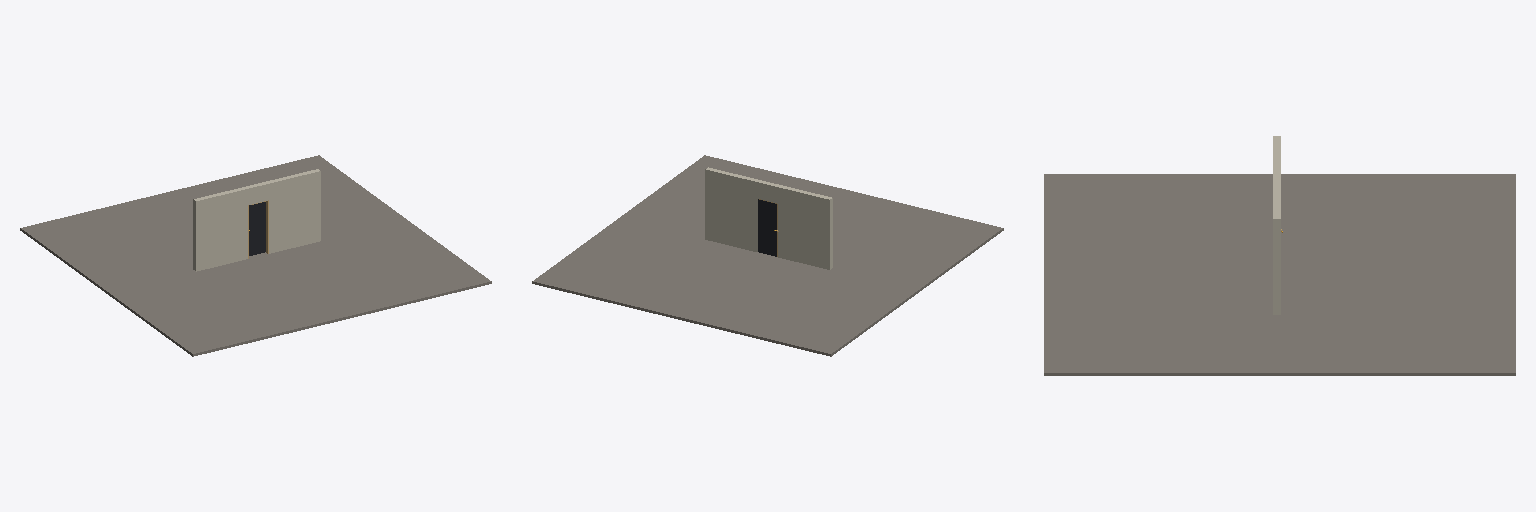
URDF robot description (db0632_swing_single_minimal):
<?xml version="1.0" ?>
<robot xmlns:doorbench="https://github.com/adamraudonis/DoorBench/schema/urdf-ext" name="db0632_swing_single_minimal">
  <link name="world_env">
    <visual name="floor_vis">
      <origin xyz="0 0 -0.05" rpy="0 0 0"/>
      <geometry>
        <box size="12 12 0.1"/>
      </geometry>
      <material name="mat_floor"/>
    </visual>
    <collision name="floor_col">
      <origin xyz="0 0 -0.05" rpy="0 0 0"/>
      <geometry>
        <box size="12 12 0.1"/>
      </geometry>
    </collision>
    <visual name="wall_left_vis">
      <origin xyz="-1.46675 -0.0755 1.35" rpy="0 0 0"/>
      <geometry>
        <box size="2.0665 0.2 2.7"/>
      </geometry>
      <material name="mat_wall"/>
    </visual>
    <collision name="wall_left_col">
      <origin xyz="-1.46675 -0.0755 1.35" rpy="0 0 0"/>
      <geometry>
        <box size="2.0665 0.2 2.7"/>
      </geometry>
    </collision>
    <visual name="wall_right_vis">
      <origin xyz="1.45175 -0.0755 1.35" rpy="0 0 0"/>
      <geometry>
        <box size="2.0965 0.2 2.7"/>
      </geometry>
      <material name="mat_wall"/>
    </visual>
    <collision name="wall_right_col">
      <origin xyz="1.45175 -0.0755 1.35" rpy="0 0 0"/>
      <geometry>
        <box size="2.0965 0.2 2.7"/>
      </geometry>
    </collision>
    <visual name="wall_header_vis">
      <origin xyz="-0.015 -0.0755 2.397" rpy="0 0 0"/>
      <geometry>
        <box size="0.837 0.2 0.606"/>
      </geometry>
      <material name="mat_wall"/>
    </visual>
    <collision name="wall_header_col">
      <origin xyz="-0.015 -0.0755 2.397" rpy="0 0 0"/>
      <geometry>
        <box size="0.837 0.2 0.606"/>
      </geometry>
    </collision>
    <visual name="jamb_hinge_vis">
      <origin xyz="0.394 -0.0755 1.0225" rpy="0 0 0"/>
      <geometry>
        <box size="0.019 0.2 2.045"/>
      </geometry>
      <material name="mat_frame"/>
    </visual>
    <collision name="jamb_hinge_col">
      <origin xyz="0.394 -0.0755 1.0225" rpy="0 0 0"/>
      <geometry>
        <box size="0.019 0.2 2.045"/>
      </geometry>
    </collision>
    <visual name="strike_1016_wall_n_vis">
      <origin xyz="-0.409 -0.091675 1.016" rpy="0 0 0"/>
      <geometry>
        <box size="0.049 0.16765 0.0334"/>
      </geometry>
      <material name="mat_frame"/>
    </visual>
    <collision name="strike_1016_wall_n_col">
      <origin xyz="-0.409 -0.091675 1.016" rpy="0 0 0"/>
      <geometry>
        <box size="0.049 0.16765 0.0334"/>
      </geometry>
    </collision>
    <visual name="strike_1016_wall_p_vis">
      <origin xyz="-0.409 0.01585 1.016" rpy="0 0 0"/>
      <geometry>
        <box size="0.049 0.016 0.0334"/>
      </geometry>
      <material name="mat_frame"/>
    </visual>
    <collision name="strike_1016_wall_p_col">
      <origin xyz="-0.409 0.01585 1.016" rpy="0 0 0"/>
      <geometry>
        <box size="0.049 0.016 0.0334"/>
      </geometry>
    </collision>
    <visual name="strike_1016_ramp_vis">
      <origin xyz="-0.413636 0.028673 1.016" rpy="0 0 0.428384"/>
      <geometry>
        <box size="0.049 0.03298 0.0334"/>
      </geometry>
      <material name="mat_frame"/>
    </visual>
    <collision name="strike_1016_ramp_col">
      <origin xyz="-0.413636 0.028673 1.016" rpy="0 0 0.428384"/>
      <geometry>
        <box size="0.049 0.03298 0.0334"/>
      </geometry>
    </collision>
    <visual name="strike_1016_back_vis">
      <origin xyz="-0.41735 0 1.016" rpy="0 0 0"/>
      <geometry>
        <box size="0.0323 0.0157 0.0334"/>
      </geometry>
      <material name="mat_frame"/>
    </visual>
    <collision name="strike_1016_back_col">
      <origin xyz="-0.41735 0 1.016" rpy="0 0 0"/>
      <geometry>
        <box size="0.0323 0.0157 0.0334"/>
      </geometry>
    </collision>
    <visual name="jamb_strike_0_vis">
      <origin xyz="-0.409 -0.0755 0.49965" rpy="0 0 0"/>
      <geometry>
        <box size="0.049 0.2 0.9993"/>
      </geometry>
      <material name="mat_frame"/>
    </visual>
    <collision name="jamb_strike_0_col">
      <origin xyz="-0.409 -0.0755 0.49965" rpy="0 0 0"/>
      <geometry>
        <box size="0.049 0.2 0.9993"/>
      </geometry>
    </collision>
    <visual name="jamb_strike_1_vis">
      <origin xyz="-0.409 -0.0755 1.53885" rpy="0 0 0"/>
      <geometry>
        <box size="0.049 0.2 1.0123"/>
      </geometry>
      <material name="mat_frame"/>
    </visual>
    <collision name="jamb_strike_1_col">
      <origin xyz="-0.409 -0.0755 1.53885" rpy="0 0 0"/>
      <geometry>
        <box size="0.049 0.2 1.0123"/>
      </geometry>
    </collision>
    <visual name="jamb_head_vis">
      <origin xyz="-0.015 -0.0755 2.0545" rpy="0 0 0"/>
      <geometry>
        <box size="0.837 0.2 0.019"/>
      </geometry>
      <material name="mat_frame"/>
    </visual>
    <collision name="jamb_head_col">
      <origin xyz="-0.015 -0.0755 2.0545" rpy="0 0 0"/>
      <geometry>
        <box size="0.837 0.2 0.019"/>
      </geometry>
    </collision>
    <visual name="head_stud_vis">
      <origin xyz="-0.015 -0.0755 2.079" rpy="0 0 0"/>
      <geometry>
        <box size="0.837 0.2 0.03"/>
      </geometry>
      <material name="mat_wall"/>
    </visual>
    <collision name="head_stud_col">
      <origin xyz="-0.015 -0.0755 2.079" rpy="0 0 0"/>
      <geometry>
        <box size="0.837 0.2 0.03"/>
      </geometry>
    </collision>
    <visual name="stop_hinge_vis">
      <origin xyz="0.379 -0.034 1.0225" rpy="0 0 0"/>
      <geometry>
        <box size="0.011 0.032 2.045"/>
      </geometry>
      <material name="mat_frame"/>
    </visual>
    <collision name="stop_hinge_col">
      <origin xyz="0.379 -0.034 1.0225" rpy="0 0 0"/>
      <geometry>
        <box size="0.011 0.032 2.045"/>
      </geometry>
    </collision>
    <visual name="stop_strike_vis">
      <origin xyz="-0.379 -0.034 1.0225" rpy="0 0 0"/>
      <geometry>
        <box size="0.011 0.032 2.045"/>
      </geometry>
      <material name="mat_frame"/>
    </visual>
    <collision name="stop_strike_col">
      <origin xyz="-0.379 -0.034 1.0225" rpy="0 0 0"/>
      <geometry>
        <box size="0.011 0.032 2.045"/>
      </geometry>
    </collision>
    <visual name="stop_head_vis">
      <origin xyz="0 -0.034 2.0395" rpy="0 0 0"/>
      <geometry>
        <box size="0.769 0.032 0.011"/>
      </geometry>
      <material name="mat_frame"/>
    </visual>
    <collision name="stop_head_col">
      <origin xyz="0 -0.034 2.0395" rpy="0 0 0"/>
      <geometry>
        <box size="0.769 0.032 0.011"/>
      </geometry>
    </collision>
  </link>
  <link name="leaf">
    <inertial>
      <origin xyz="-0.381 -0.0245 1.025" rpy="0 0 0"/>
      <mass value="11.165926"/>
      <inertia ixx="3.8431713" ixy="0" ixz="0" iyy="4.382317117" iyz="0" izz="0.541425527"/>
    </inertial>
    <visual name="leaf_slab_vis">
      <origin xyz="-0.381 -0.0245 1.025" rpy="0 0 0"/>
      <geometry>
        <box size="0.762 0.035 2.032"/>
      </geometry>
      <material name="mat_leaf"/>
    </visual>
    <collision name="leaf_slab_col">
      <origin xyz="-0.381 -0.0245 1.025" rpy="0 0 0"/>
      <geometry>
        <box size="0.762 0.035 2.032"/>
      </geometry>
    </collision>
  </link>
  <link name="leaf_handle">
    <inertial>
      <origin xyz="0 0 0" rpy="0 0 0"/>
      <mass value="1.098683"/>
      <inertia ixx="0.003696071" ixy="0" ixz="0" iyy="0.000311555" iyz="0" izz="0.003696071"/>
    </inertial>
    <visual name="leaf_handle_knob_n_vis">
      <origin xyz="0 -0.0175 0" rpy="-1.570796 0 3.141593"/>
      <geometry>
        <mesh filename="../../hardware/knob_d1888f6f03.obj"/>
      </geometry>
      <material name="mat_op_brass"/>
    </visual>
    <visual name="leaf_handle_knob_col_n_vis">
      <origin xyz="0 -0.064 0" rpy="0 0 0"/>
      <geometry>
        <sphere radius="0.0243"/>
      </geometry>
      <material name="mat_op_brass"/>
    </visual>
    <collision name="leaf_handle_knob_col_n_col">
      <origin xyz="0 -0.064 0" rpy="0 0 0"/>
      <geometry>
        <sphere radius="0.0243"/>
      </geometry>
    </collision>
    <collision name="leaf_handle_knob_neck_n_col">
      <origin xyz="0 -0.0295 0" rpy="-1.570796 0 0"/>
      <geometry>
        <cylinder radius="0.011" length="0.024"/>
      </geometry>
    </collision>
    <visual name="leaf_handle_knob_p_vis">
      <origin xyz="0 0.0175 0" rpy="1.570796 0 3.141593"/>
      <geometry>
        <mesh filename="../../hardware/knob_d1888f6f03.obj"/>
      </geometry>
      <material name="mat_op_brass"/>
    </visual>
    <visual name="leaf_handle_knob_col_p_vis">
      <origin xyz="0 0.064 0" rpy="0 0 0"/>
      <geometry>
        <sphere radius="0.0243"/>
      </geometry>
      <material name="mat_op_brass"/>
    </visual>
    <collision name="leaf_handle_knob_col_p_col">
      <origin xyz="0 0.064 0" rpy="0 0 0"/>
      <geometry>
        <sphere radius="0.0243"/>
      </geometry>
    </collision>
    <collision name="leaf_handle_knob_neck_p_col">
      <origin xyz="0 0.0295 0" rpy="-1.570796 0 0"/>
      <geometry>
        <cylinder radius="0.011" length="0.024"/>
      </geometry>
    </collision>
  </link>
  <link name="leaf_latch_bolt">
    <inertial>
      <origin xyz="0.00865 0 0" rpy="0 0 0"/>
      <mass value="0.041419"/>
      <inertia ixx="0.000000798" ixy="0" ixz="0" iyy="0.000005598" iyz="0" izz="0.000005598"/>
    </inertial>
    <visual name="leaf_latch_bolt_capsule_vis">
      <origin xyz="0.00865 0 0" rpy="0 -1.570796 0"/>
      <geometry>
        <cylinder radius="0.00635" length="0.03"/>
      </geometry>
      <material name="mat_bolt"/>
    </visual>
    <collision name="leaf_latch_bolt_capsule_col">
      <origin xyz="0.00865 0 0" rpy="0 -1.570796 0"/>
      <geometry>
        <cylinder radius="0.00635" length="0.03"/>
      </geometry>
    </collision>
  </link>
  <joint name="leaf_hinge" type="revolute">
    <origin xyz="0.3815 0.0245 0" rpy="0 0 0"/>
    <parent link="world_env"/>
    <child link="leaf"/>
    <axis xyz="0 0 -1"/>
    <limit lower="0" upper="1.570796" effort="2000" velocity="10"/>
    <dynamics damping="0.173726" friction="15.288035"/>
    <doorbench:closer damping_closing="0" damping_opening="0" backcheck_angle="0" backcheck_damping="0"/>
    <doorbench:note text="Stuck/swollen door: high breakaway friction"/>
  </joint>
  <joint name="leaf_handle_hinge" type="revolute">
    <origin xyz="-0.702 -0.0245 1.016" rpy="0 0 0"/>
    <parent link="leaf"/>
    <child link="leaf_handle"/>
    <axis xyz="0 1 0"/>
    <limit lower="0" upper="0.87" effort="2000" velocity="10"/>
    <dynamics damping="0.143613" friction="0.038"/>
    <doorbench:spring stiffness="0.5" springref="-0.5" note="tau = -stiffness*(q - springref); not native URDF"/>
  </joint>
  <joint name="leaf_latch_bolt_slide" type="prismatic">
    <origin xyz="-0.762 -0.0245 1.016" rpy="0 0 0"/>
    <parent link="leaf"/>
    <child link="leaf_latch_bolt"/>
    <axis xyz="1 0 0"/>
    <limit lower="0" upper="0.0127" effort="5000" velocity="10"/>
    <dynamics damping="2" friction="0.3"/>
    <doorbench:spring stiffness="300" springref="-0.008333" note="tau = -stiffness*(q - springref); not native URDF"/>
    <mimic joint="leaf_handle_hinge" multiplier="0.015679" offset="0"/>
    <doorbench:coupling one_sided="true" note="MJCF uses a one-sided tendon (bolt may retract further, e.g. riding over the strike lip); mimic is bilateral"/>
  </joint>
  <material name="mat_bolt">
    <color rgba="0.85 0.66 0.3 1"/>
  </material>
  <material name="mat_floor">
    <color rgba="0.55 0.53 0.5 1"/>
  </material>
  <material name="mat_frame">
    <color rgba="0.82 0.7 0.5 1"/>
  </material>
  <material name="mat_leaf">
    <color rgba="0.2 0.21 0.23 1"/>
  </material>
  <material name="mat_op_brass">
    <color rgba="0.85 0.66 0.3 1"/>
  </material>
  <material name="mat_wall">
    <color rgba="0.78 0.76 0.7 1"/>
  </material>
</robot>

--- Render facts (derived) ---
3 views of the same robot in one strip: view 1: azimuth 30°, elevation 25°; view 2: azimuth 150°, elevation 25°; view 3: azimuth 270°, elevation 25° (orthographic).
Model db0632_swing_single_minimal with 4 links and 3 joints (2 revolute, 1 prismatic), rooted at world_env, posed all joints at 0.
Visible links, largest first — view 1: world_env, leaf; view 2: world_env, leaf; view 3: world_env.
Boxes of the visible links, x1,y1,x2,y2 form: world_env: [20, 155, 491, 356]; leaf: [249, 202, 265, 255]; world_env: [532, 155, 1003, 356]; leaf: [758, 199, 776, 256]; world_env: [1044, 136, 1515, 375].
Size in the robot's own frame: 12 by 12 by 2.8 metres.
Meshes: 1 distinct files referenced, 2 mesh visuals loaded (1 OBJ).
